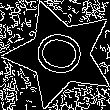O_E: (29, 26, 92, 82)
